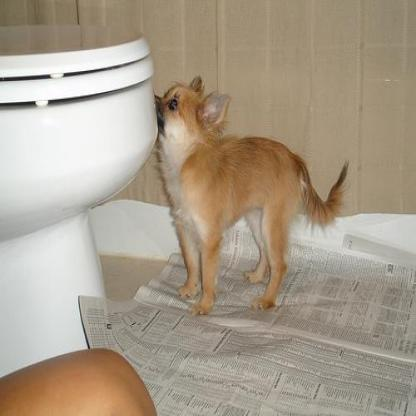Pomeranian: (153, 74, 345, 313)
